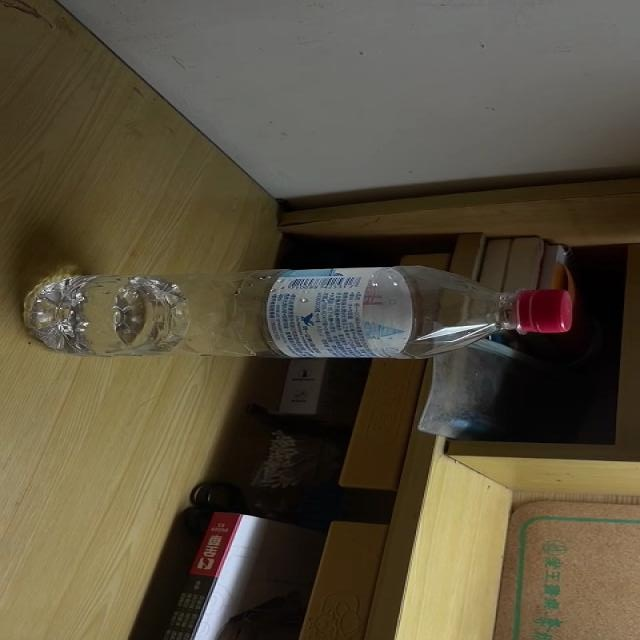Water: (18, 266, 572, 358)
